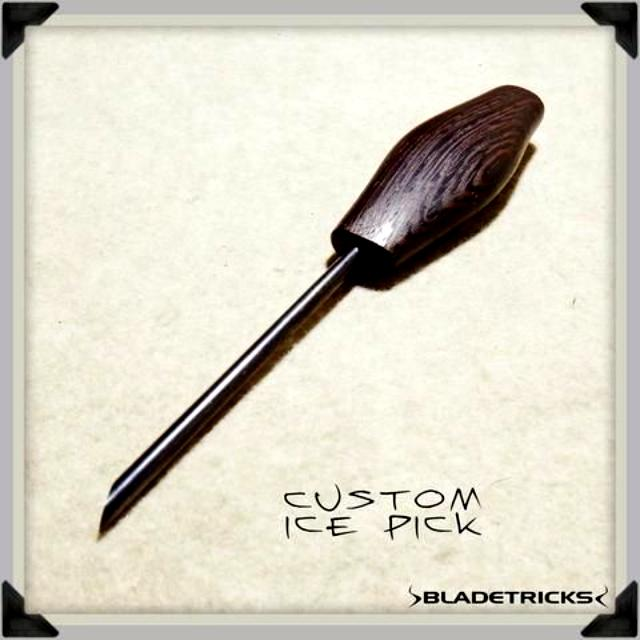ice pick: (98, 84, 544, 540)
